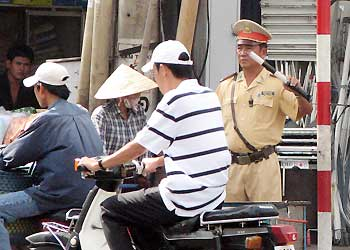police: (210, 17, 314, 218)
